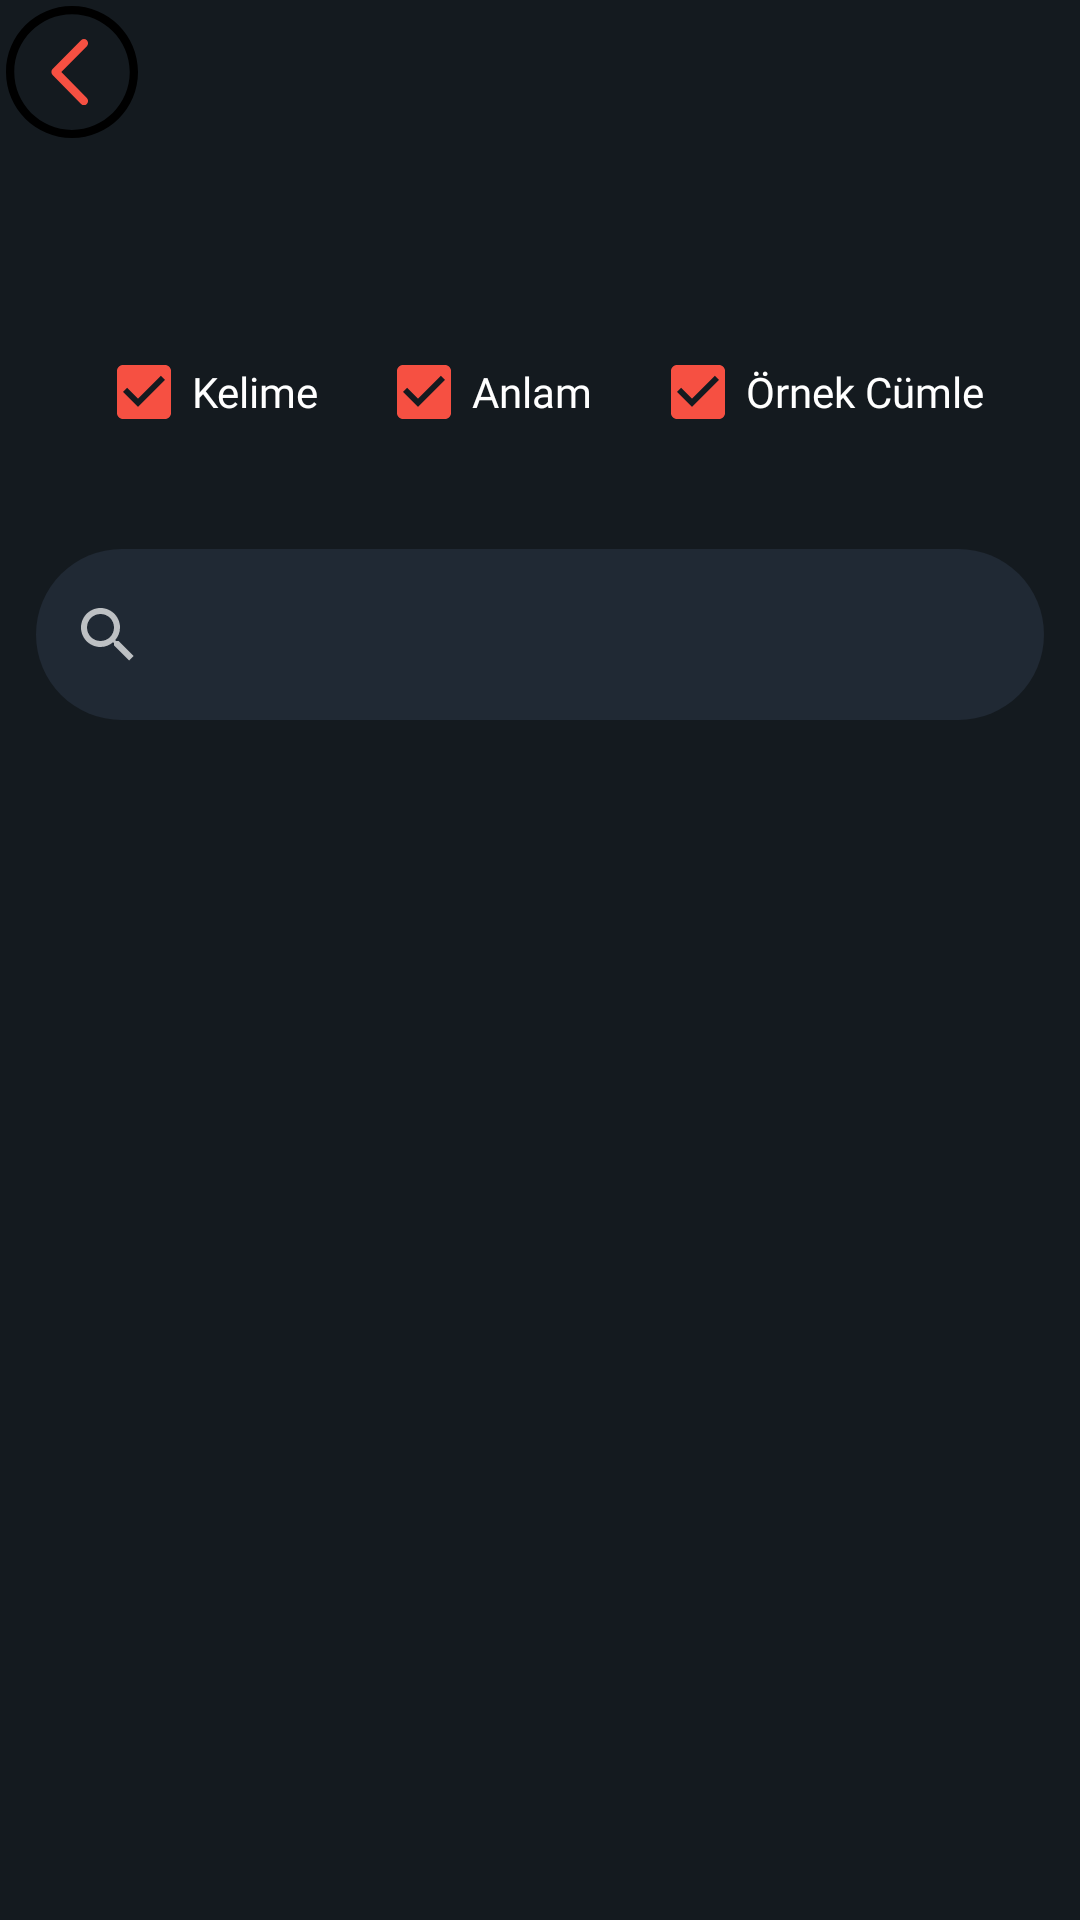

Where to tap for icons on this 1080x1920 app screen, as (x=x, y=y):
back: (x=72, y=72)
